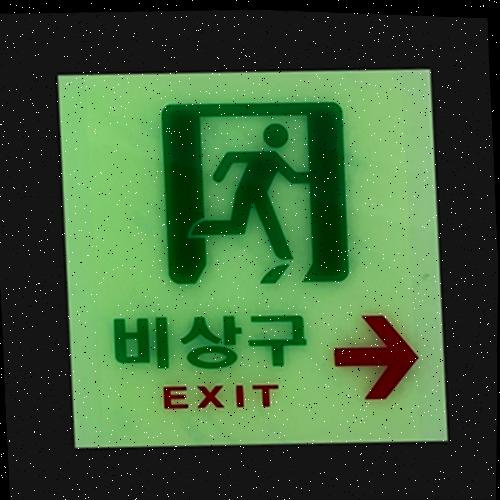emergency_exit: (57, 68, 449, 449)
